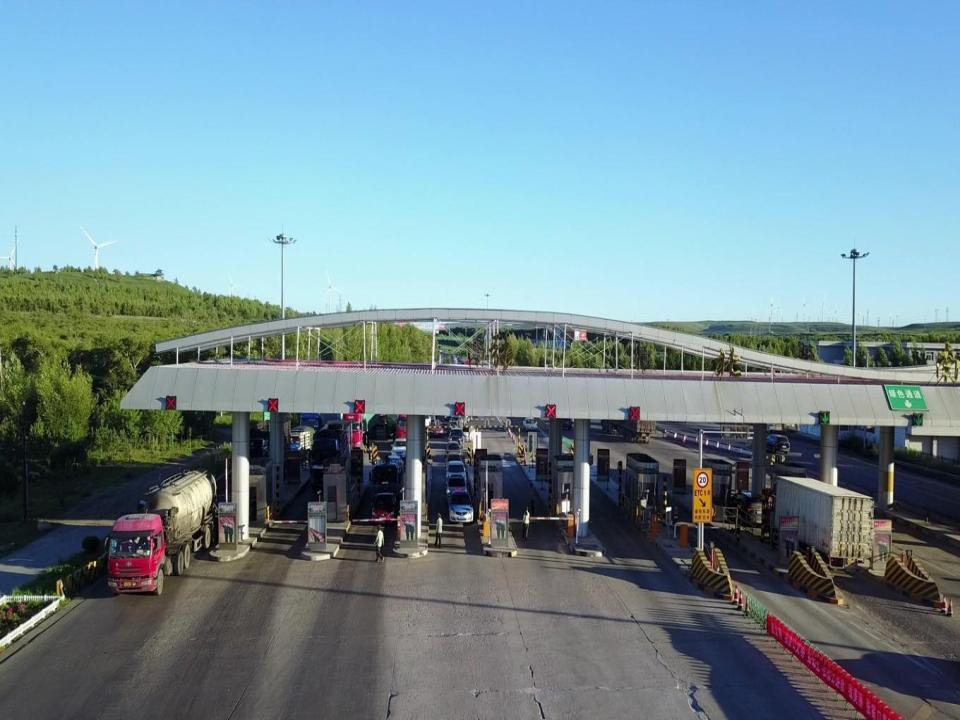car: (448, 488, 476, 524), (372, 492, 396, 522), (446, 472, 466, 501), (446, 461, 467, 488), (388, 438, 410, 456), (446, 449, 460, 475), (445, 440, 459, 463), (448, 426, 464, 446), (428, 418, 444, 438), (463, 422, 476, 440), (524, 415, 536, 429)
truck: (103, 468, 222, 594), (370, 454, 404, 492)
